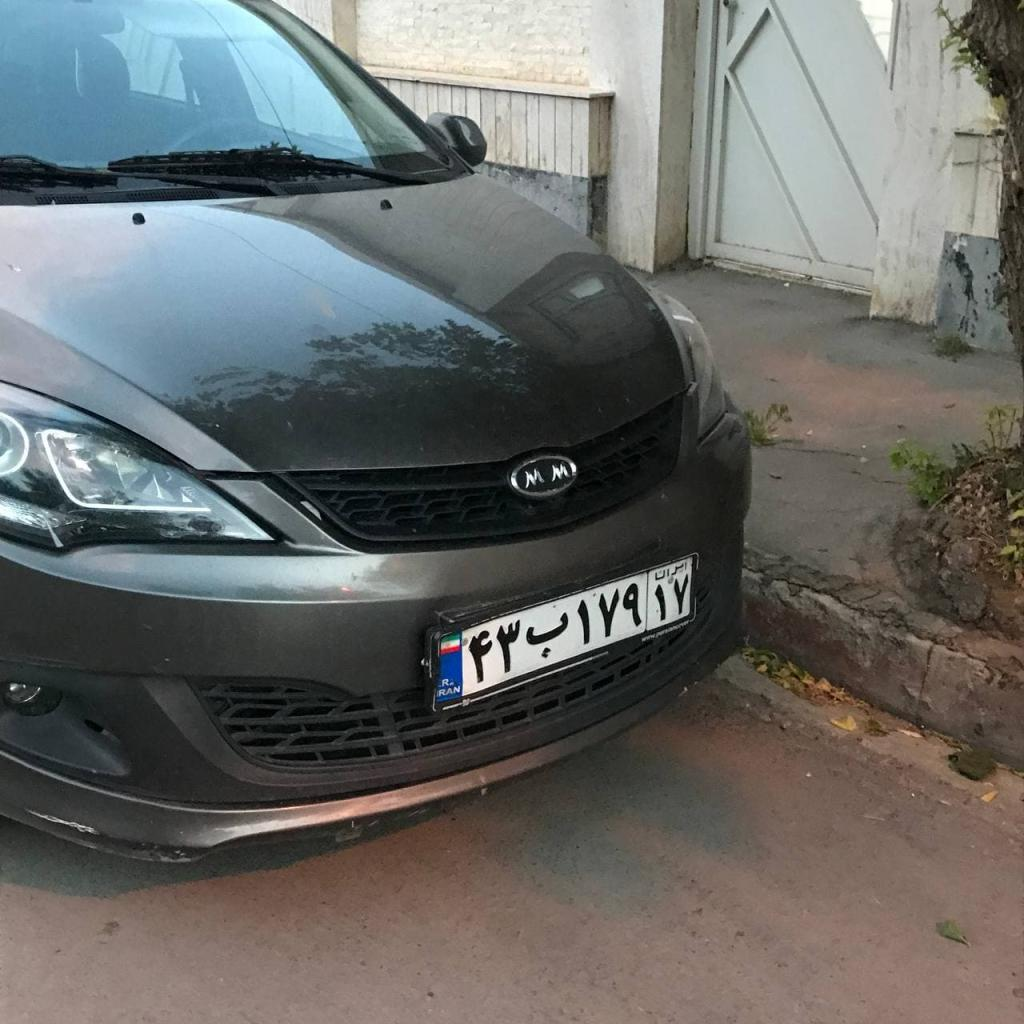Plates: (438, 555, 692, 705)
